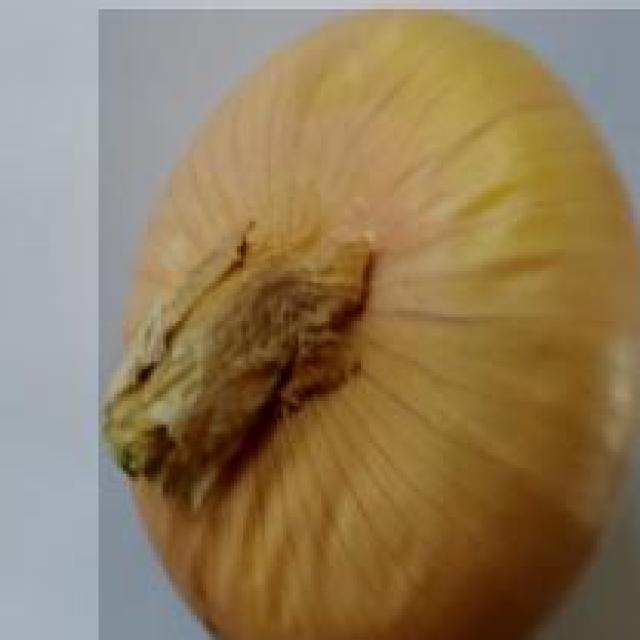onion: (95, 6, 640, 640)
